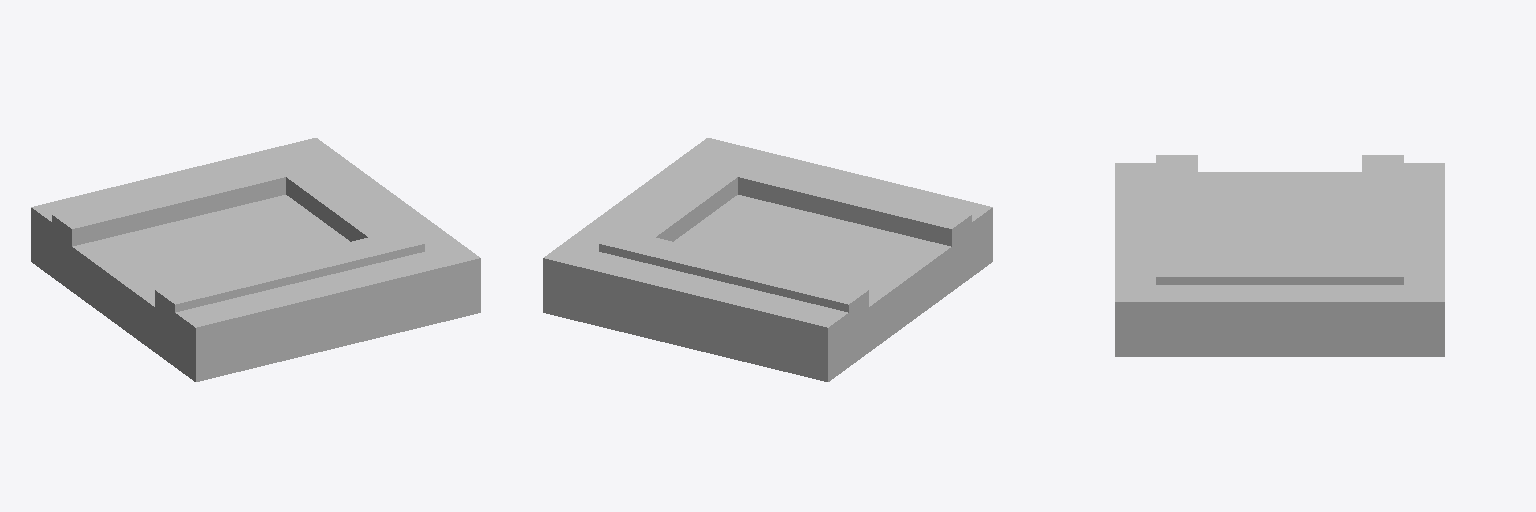
Rendered from tile137.obj.
The picture shows the model from 3 angles: view 1: azimuth 30°, elevation 25°; view 2: azimuth 150°, elevation 25°; view 3: azimuth 270°, elevation 25°; orthographic projection.
Parts seen in each view (by area): view 1: tile137; view 2: tile137; view 3: tile137.
Part boxes in pixels (x1,y1,x2,y2): tile137: (31,138,480,381); tile137: (543,138,992,381); tile137: (1115,155,1444,356).
Size of the model in its own units: 1 by 0.21 by 1.